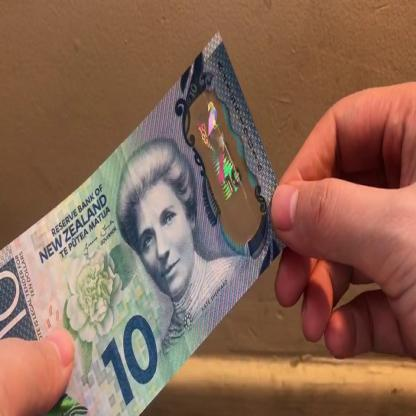10B: (194, 98, 249, 203)
